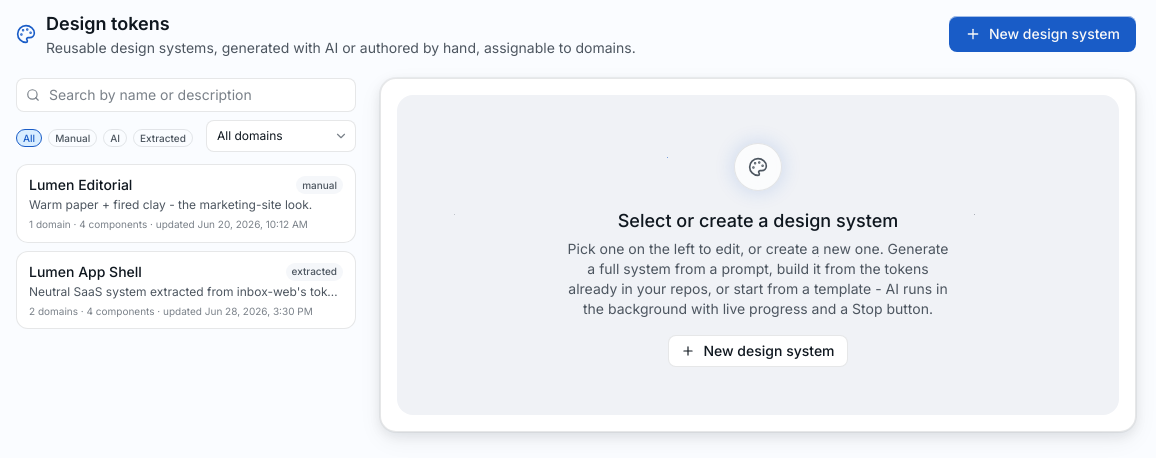
Test: DesignTokensPage › filters the list by name/description search
The width and height of the screenshot is (1156, 458).
Expected: the text "Lumen Editorial" is shown, [29, 175, 132, 195]
In the field named "Search design systems": (186, 95) [16, 78, 356, 112], type "app shell"
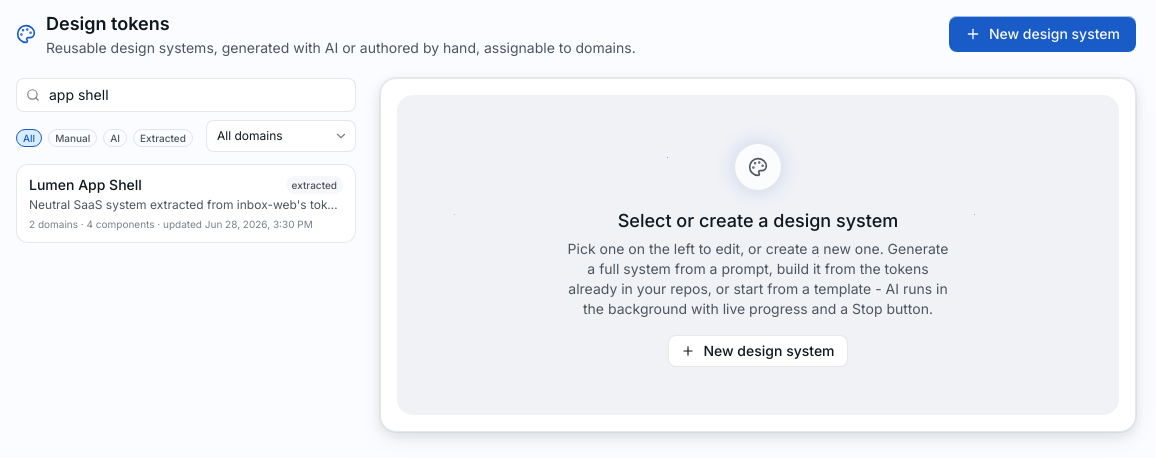
Expected: the text "Lumen App Shell" is shown, [29, 175, 142, 195]
Now the button "Lumen Editorial" is gone
# No matches surfaces the filtered empty state, not a blank column.
Replace the text in the field named "Search design systems" with "zzz-not-a-system": (186, 95) [16, 78, 356, 112]
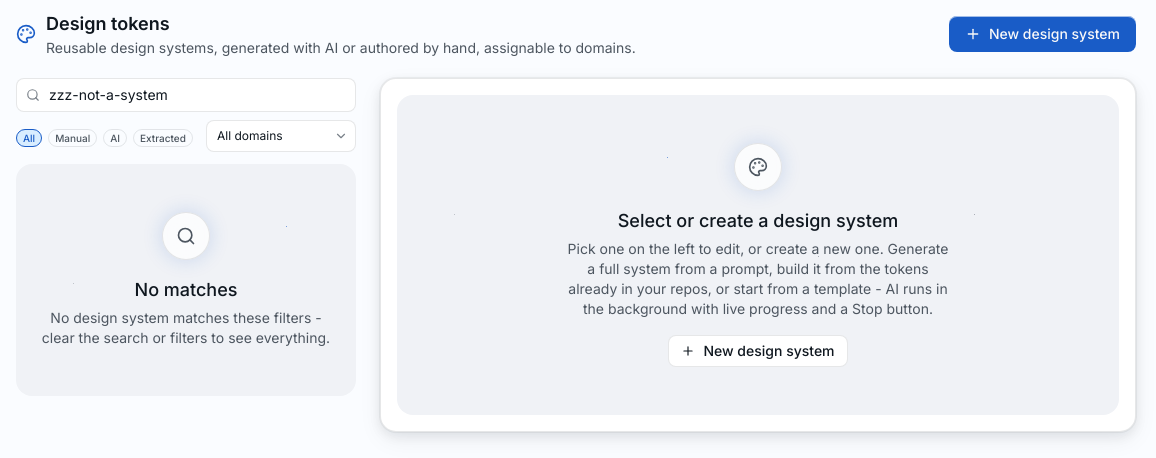
Now the heading "No matches" is shown, box [134, 276, 237, 304]
